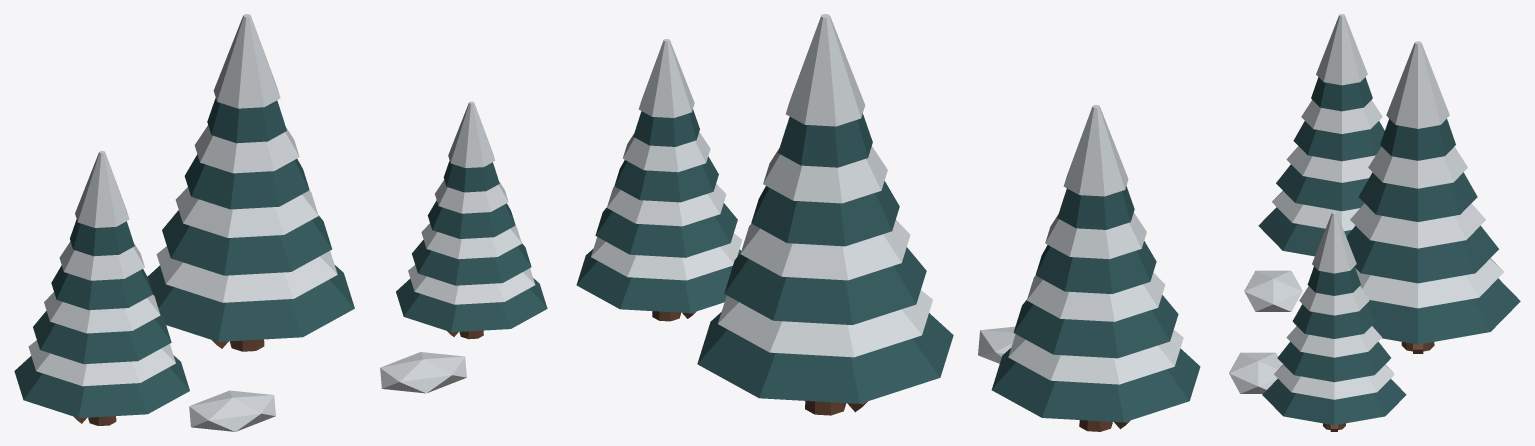
Rendered from Frosty_SnowyPineGrove_Standard.glb.
The picture shows the model from 3 angles, left to right: view 1: azimuth 30°, elevation 25°; view 2: azimuth 150°, elevation 25°; view 3: azimuth 270°, elevation 25°; orthographic projection. The views are drawn at different scales.
Visible parts, largest first — view 1: Frosty_SnowyPineGrove_Standard; view 2: Frosty_SnowyPineGrove_Standard; view 3: Frosty_SnowyPineGrove_Standard.
Part boxes in pixels (left/top/right/bottom): Frosty_SnowyPineGrove_Standard: left=14, top=14, right=547, bottom=431; Frosty_SnowyPineGrove_Standard: left=576, top=14, right=1200, bottom=431; Frosty_SnowyPineGrove_Standard: left=1229, top=14, right=1520, bottom=431.
Size of the model in its own units: 7.15 by 4.39 by 3.83.
